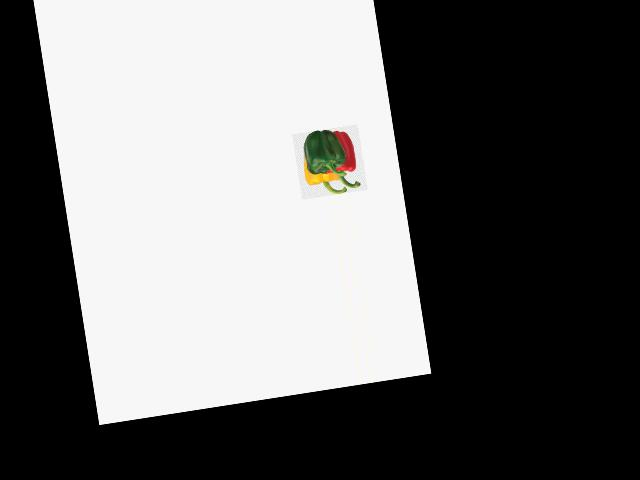bell_pepper: (320, 126, 367, 193)
